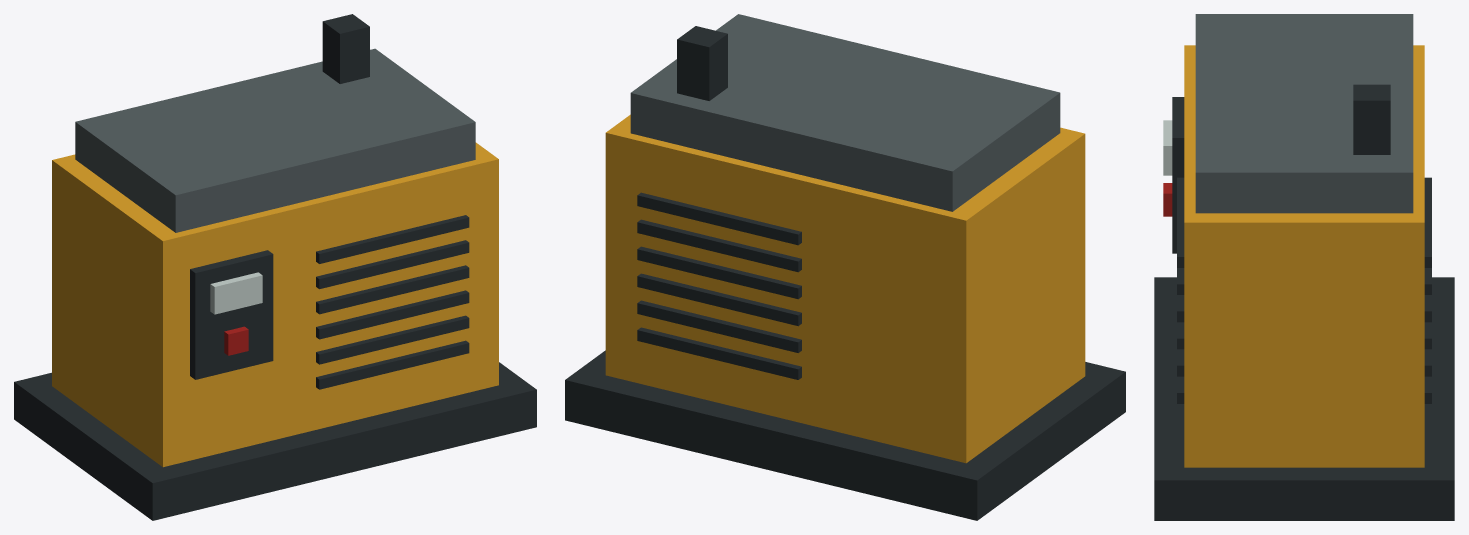
The model's file is generator.obj.
3 views of the same model, side by side, from view 1: azimuth 30°, elevation 25°; view 2: azimuth 150°, elevation 25°; view 3: azimuth 270°, elevation 25° (orthographic). The views are drawn at different scales.
Visible parts, largest first — view 1: Generator; view 2: Generator; view 3: Generator.
Part boxes in pixels (x1,y1,x2,y2): Generator: (14, 14, 536, 520); Generator: (565, 14, 1125, 520); Generator: (1154, 14, 1454, 520).
Size of the model in its own units: 3.2 by 2.8 by 2.
Materials: 1 (1 with a texture image).
